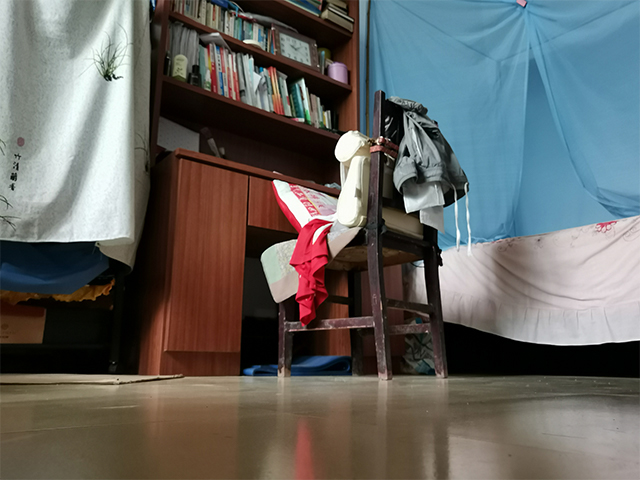bed: (401, 215, 640, 382)
cabinet: (148, 147, 408, 382)
carpet: (1, 372, 186, 387)
stool: (272, 88, 452, 380)
